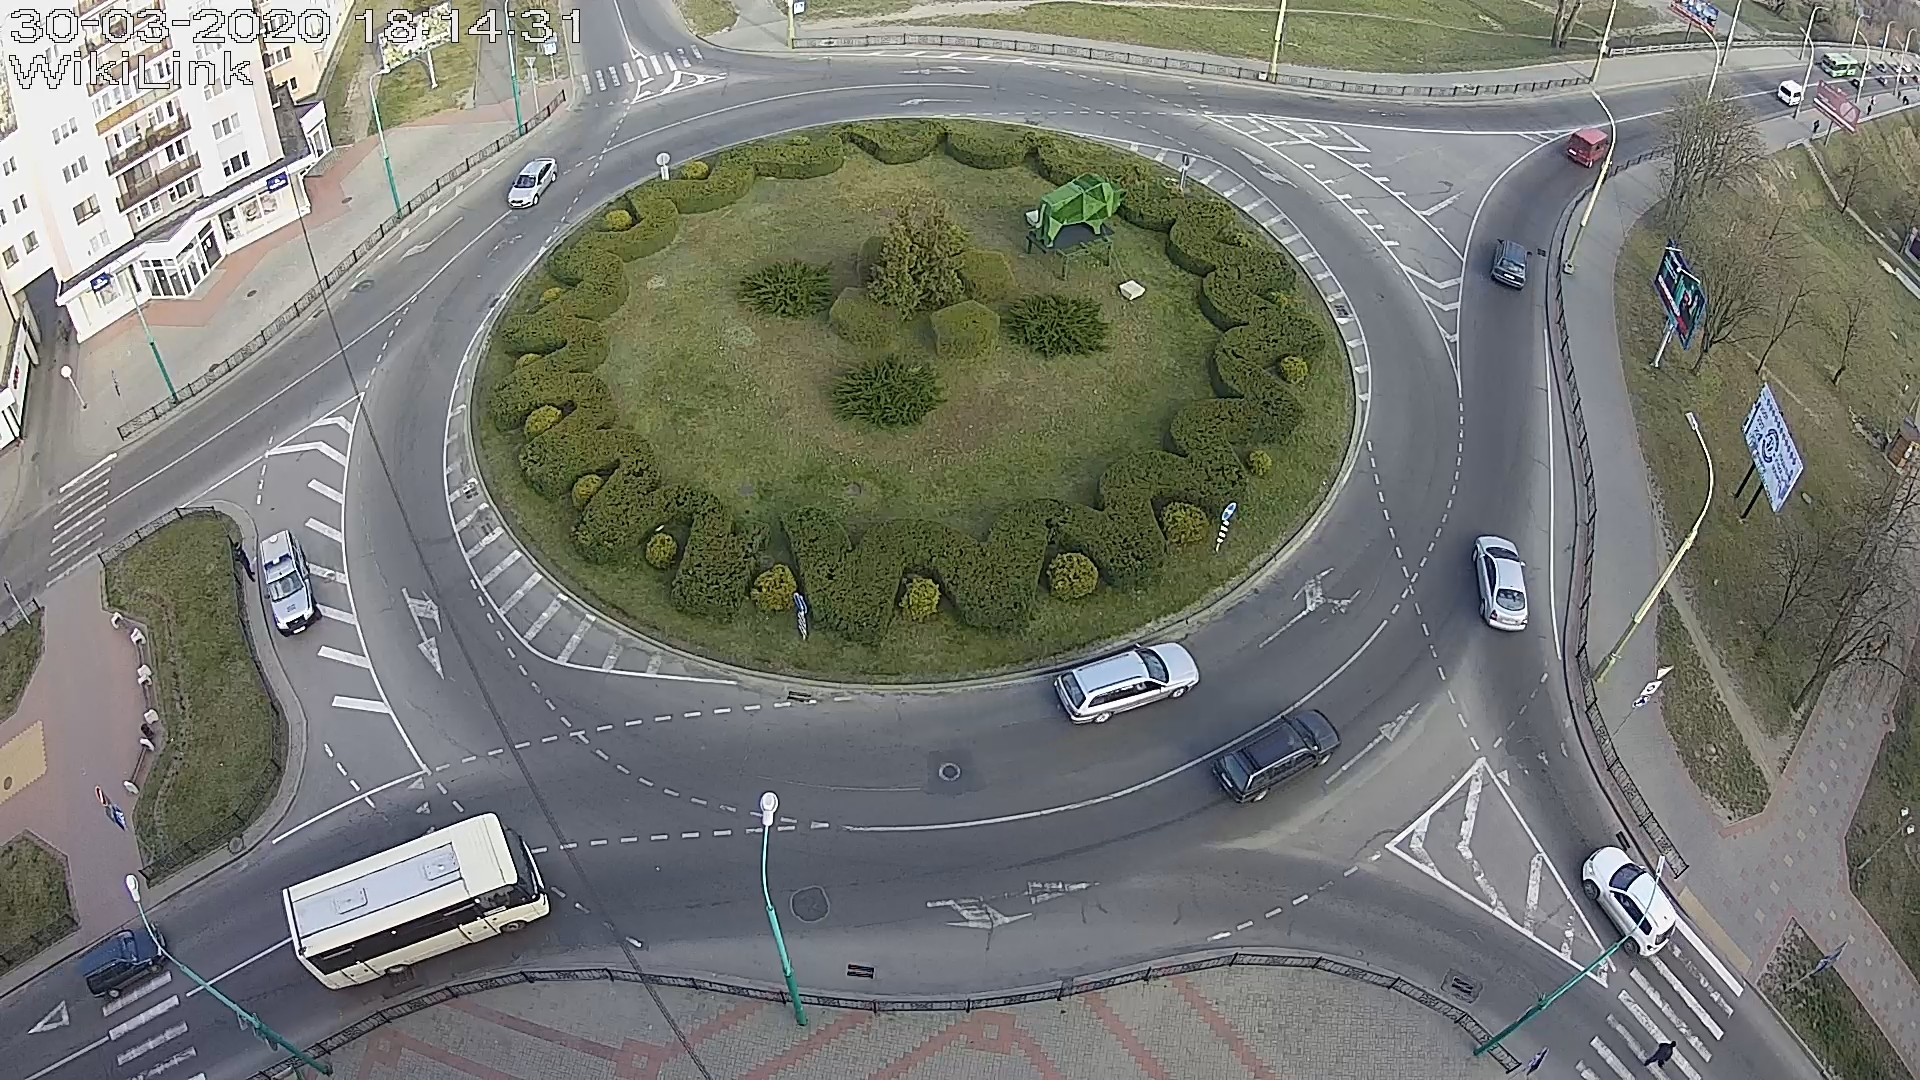bus: (280, 812, 550, 990)
car: (1211, 708, 1342, 804), (1054, 641, 1200, 727), (1582, 847, 1676, 960), (260, 529, 323, 637), (76, 924, 169, 998), (1472, 534, 1528, 632), (506, 157, 559, 208), (1490, 239, 1534, 289), (1565, 127, 1611, 167)
